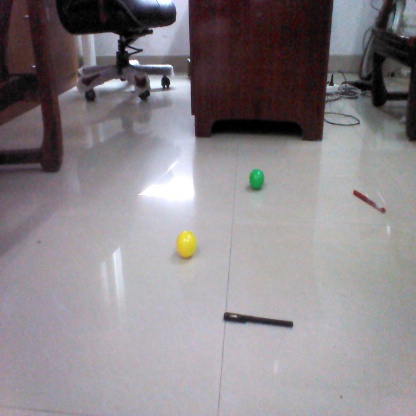ball: (174, 227, 198, 258), (248, 169, 267, 190)
pen: (222, 312, 298, 331), (352, 191, 385, 212)
